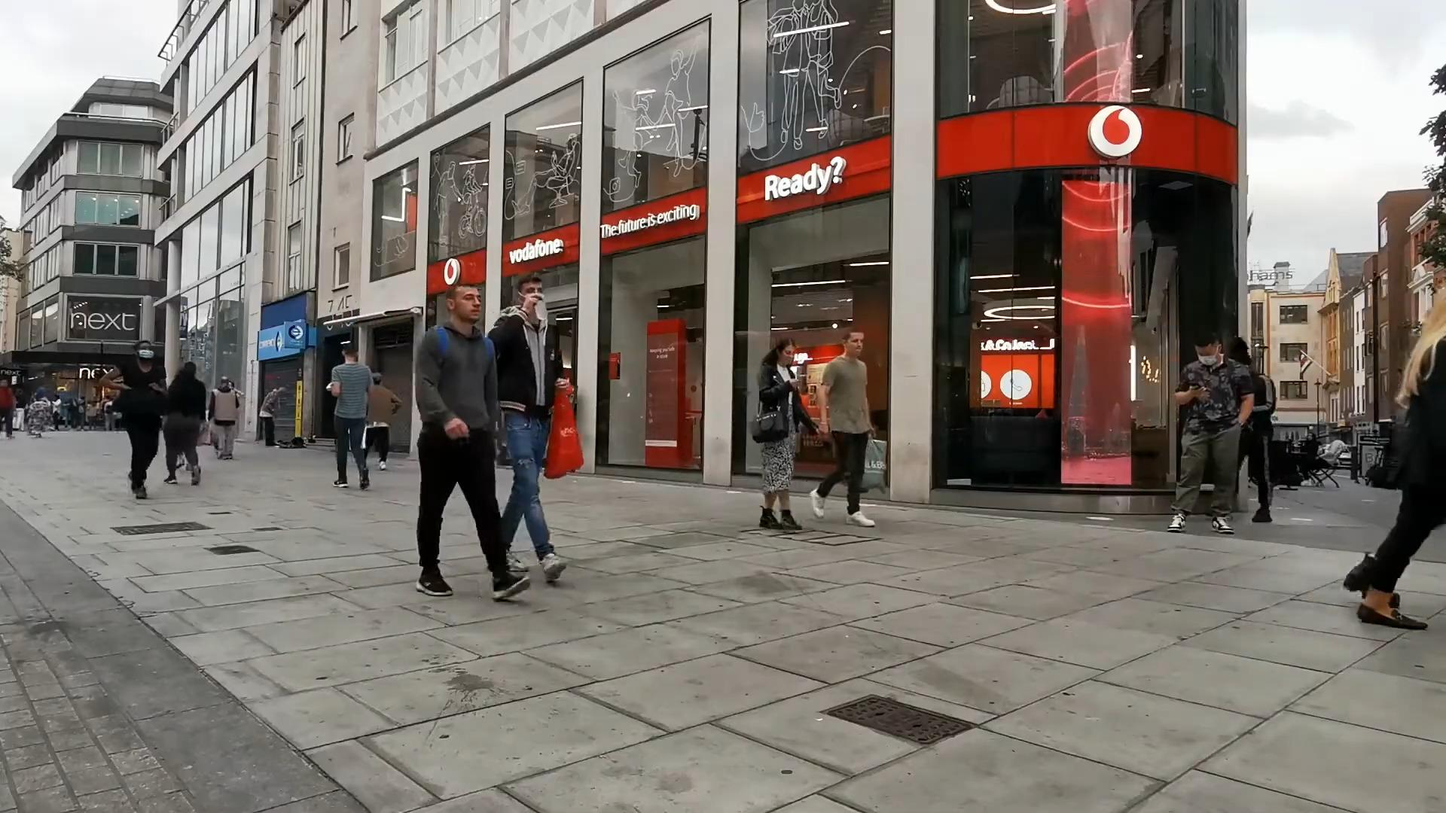no-helmet: (444, 283, 482, 323), (1192, 327, 1223, 366), (167, 367, 204, 398), (516, 273, 545, 310), (774, 336, 796, 366), (842, 328, 864, 357), (132, 340, 155, 361), (340, 343, 360, 359)
